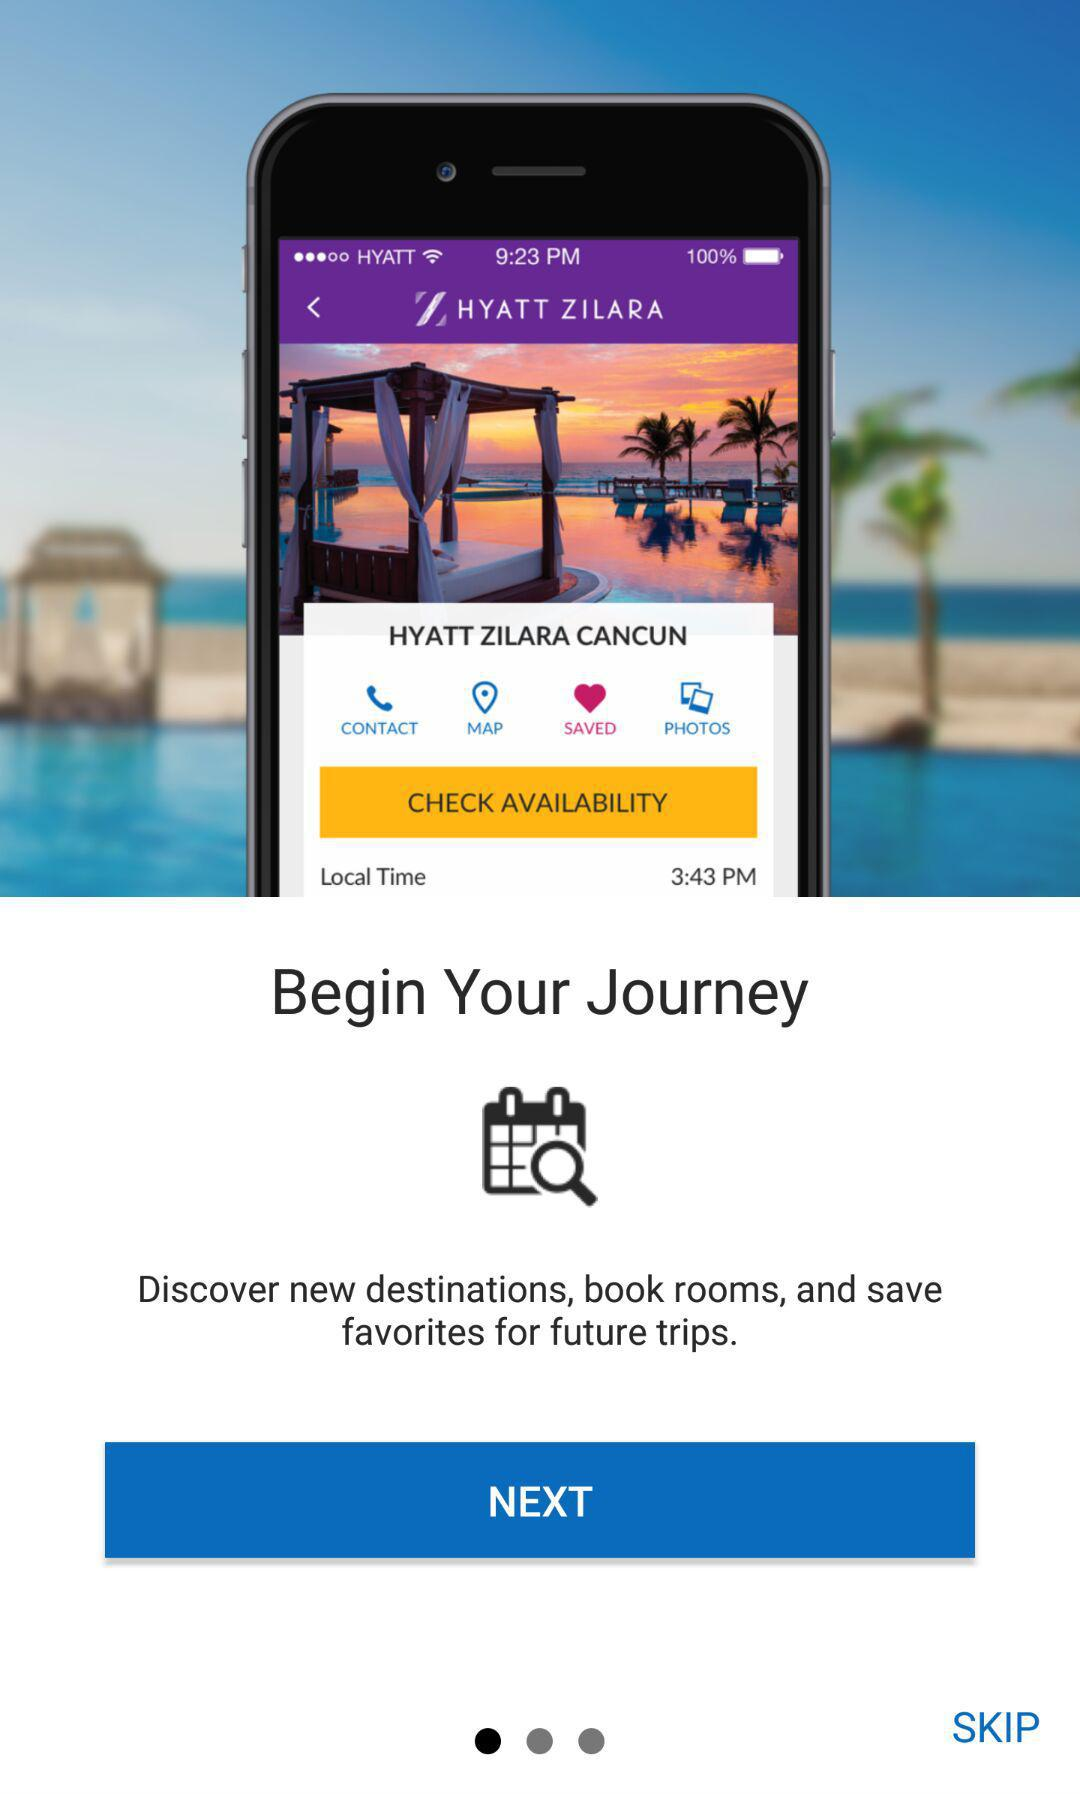Icon: (480, 1084, 600, 1208)
Image: (1, 1, 1076, 898)
PageIndicator: (473, 1726, 609, 1756)
Text: (138, 1272, 944, 1356), (272, 962, 810, 1030), (952, 1709, 1042, 1745)
TextButton: (105, 1442, 976, 1559)
